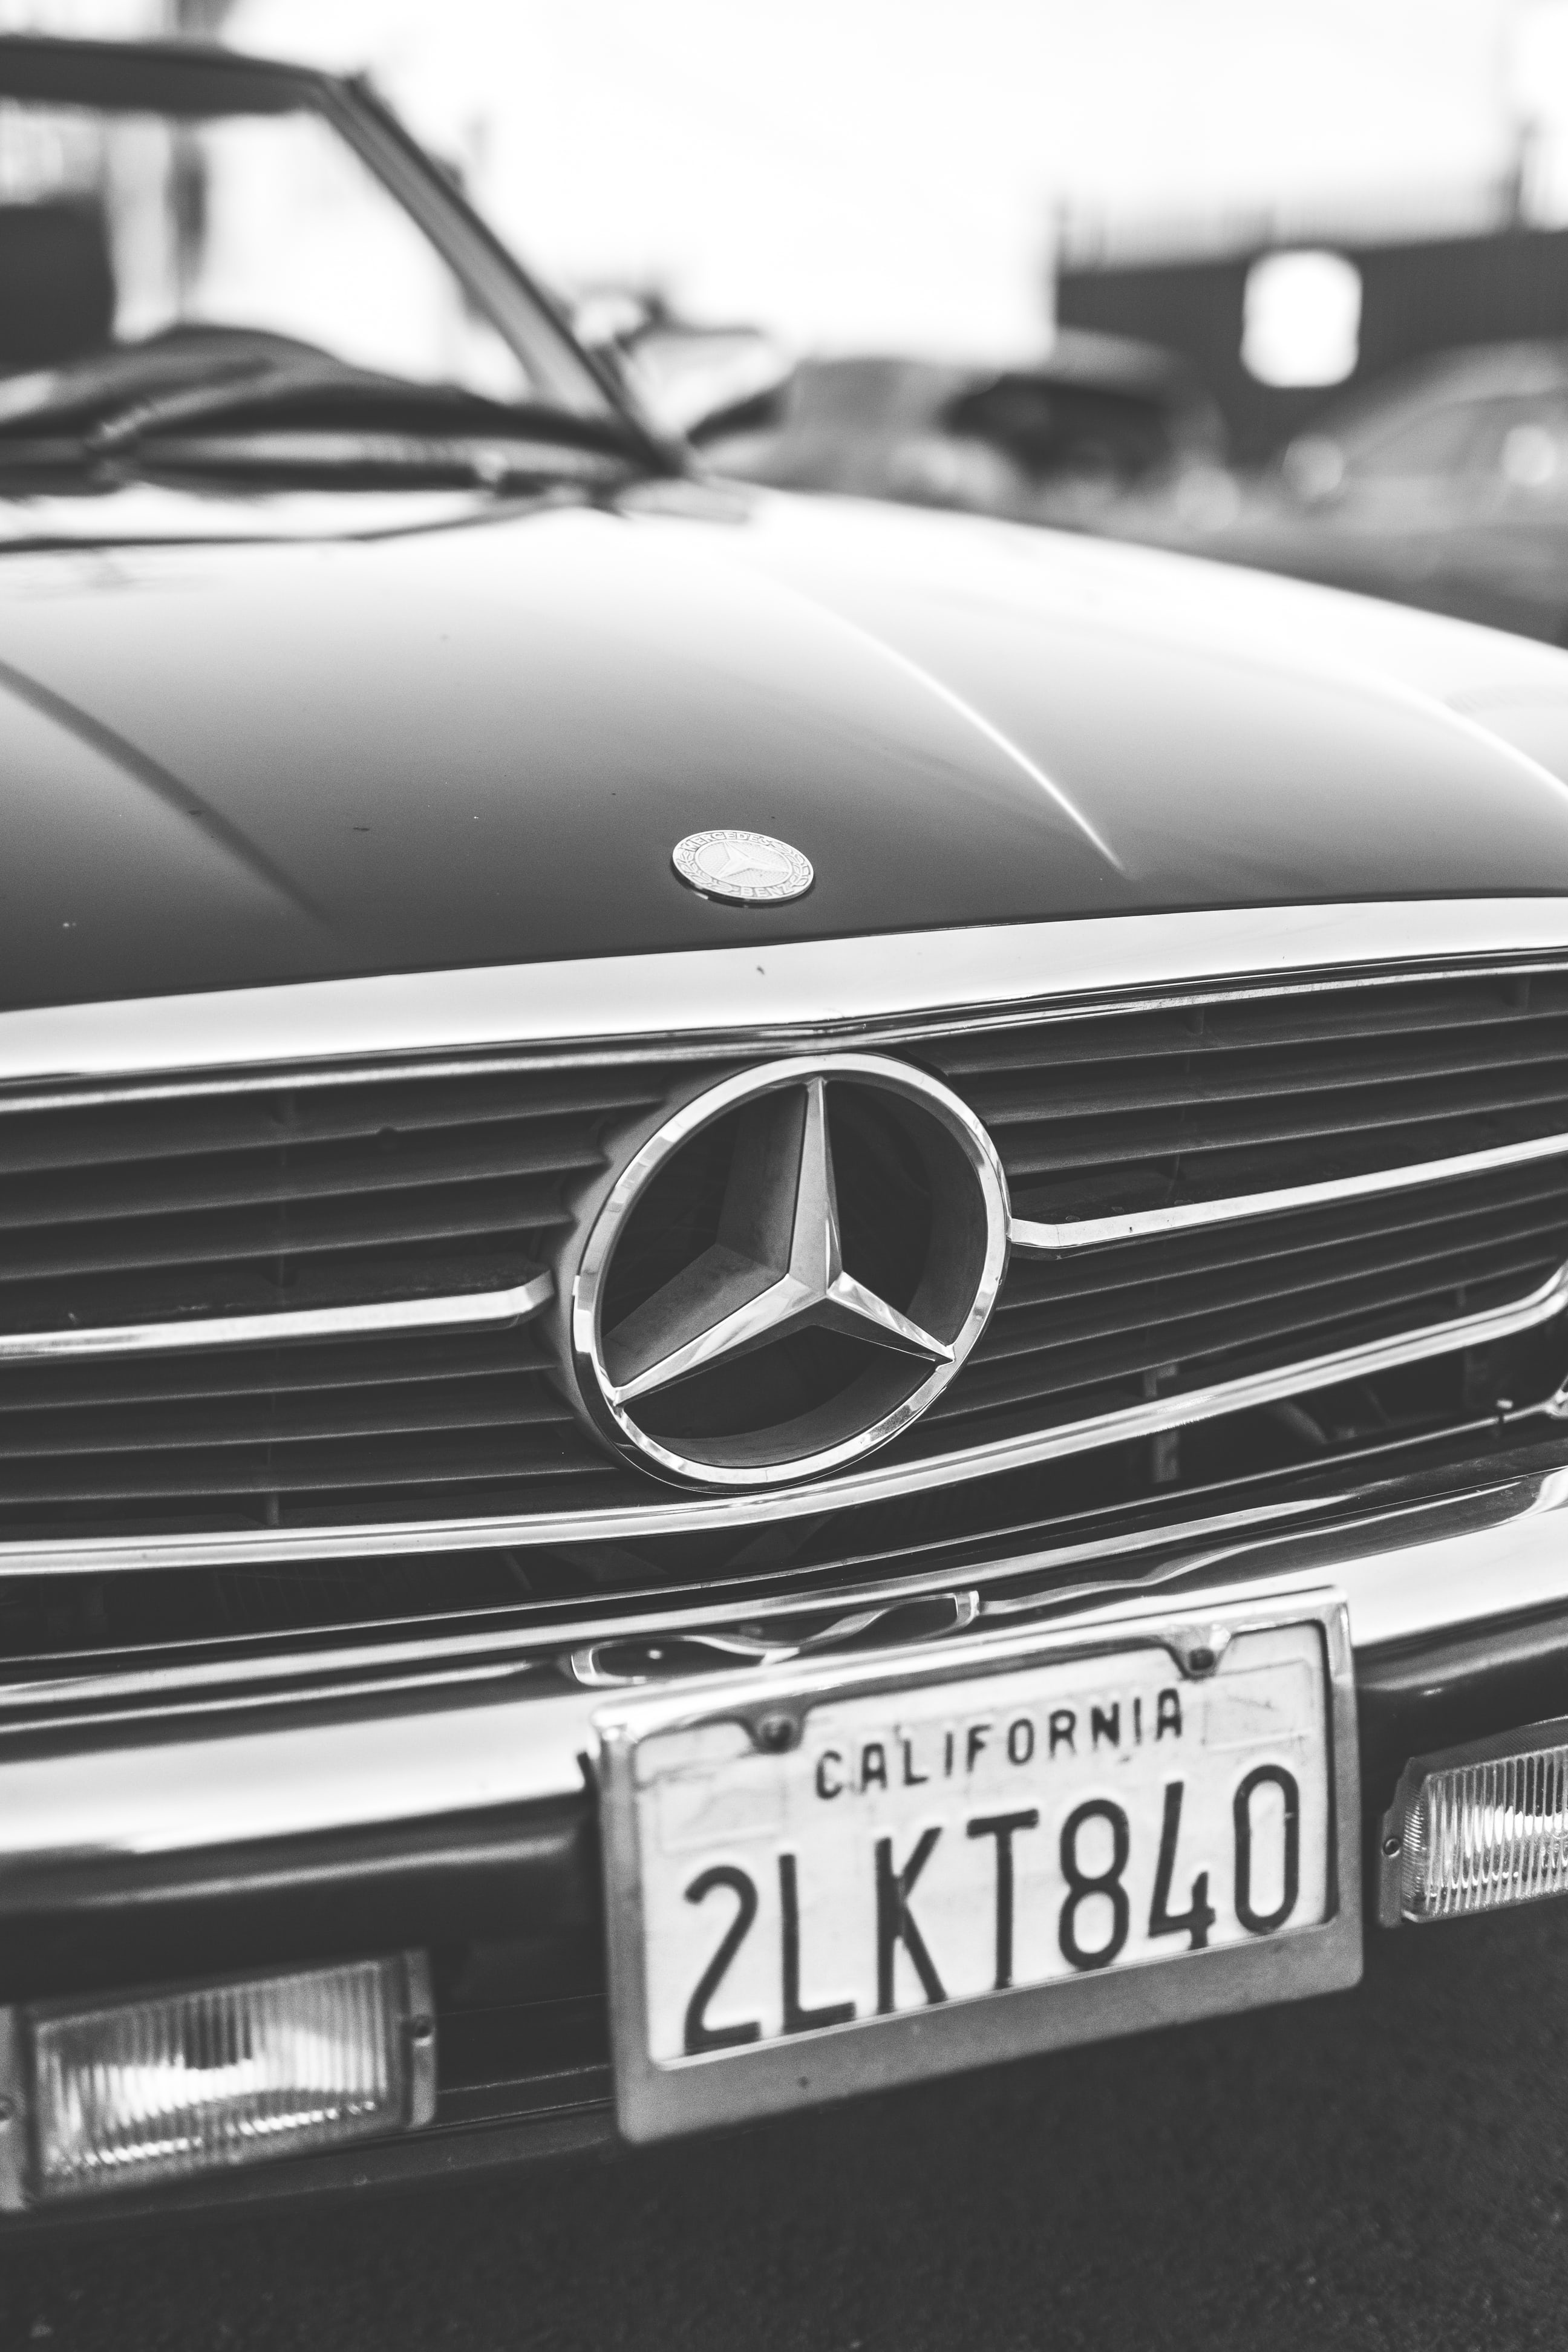plaka: (594, 1599, 1373, 2151)
